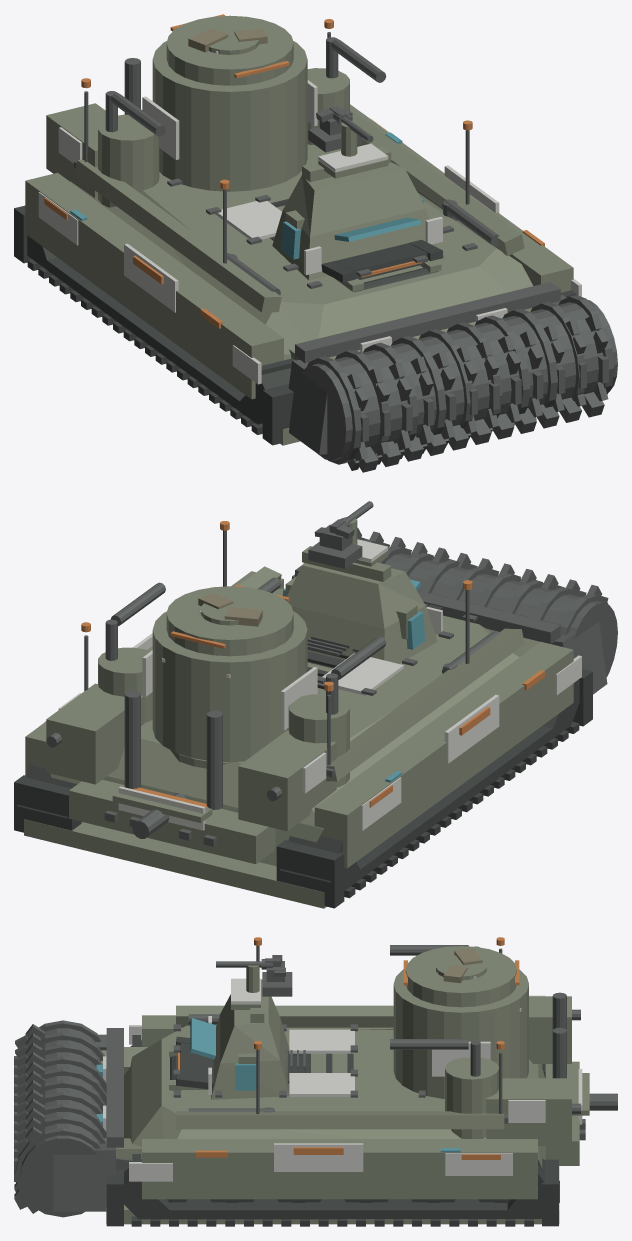
The model's file is harvester_articulated.glb.
3 renders of one model, top to bottom at view 1: azimuth 30°, elevation 25°; view 2: azimuth 150°, elevation 25°; view 3: azimuth 270°, elevation 25°, orthographic. The views are drawn at different scales.
Visible parts, largest first — view 1: harvester_hull, harvester_intake_cutter, harvester_ore_tank, harvester_cab, harvester_track_left, harvester_team_body, harvester_pipes, harvester_conveyor, harvester_team_tank, harvester_emissive, harvester_glass, harvester_machine_gun (+2 smaller); view 2: harvester_hull, harvester_ore_tank, harvester_intake_cutter, harvester_track_left, harvester_cab, harvester_pipes, harvester_team_body, harvester_track_right, harvester_team_tank, harvester_machine_gun, harvester_emissive, harvester_bolts (+3 smaller); view 3: harvester_hull, harvester_ore_tank, harvester_intake_cutter, harvester_track_right, harvester_team_body, harvester_cab, harvester_pipes, harvester_conveyor, harvester_team_tank, harvester_glass, harvester_emissive, harvester_machine_gun (+2 smaller).
Part boxes in pixels (box(x1,y1,x2,y2)): harvester_hull: box(25, 104, 573, 445); harvester_intake_cutter: box(288, 282, 617, 472); harvester_ore_tank: box(46, 15, 349, 207); harvester_cab: box(272, 120, 436, 280); harvester_track_left: box(14, 205, 294, 445); harvester_team_body: box(38, 113, 581, 384); harvester_pipes: box(74, 32, 499, 295); harvester_conveyor: box(269, 199, 443, 292); harvester_team_tank: box(58, 51, 317, 163); harvester_emissive: box(44, 14, 544, 328); harvester_glass: box(70, 132, 502, 318); harvester_machine_gun: box(308, 106, 373, 152); harvester_hull: box(24, 566, 573, 908); harvester_ore_tank: box(46, 586, 349, 831); harvester_intake_cutter: box(291, 527, 617, 694); harvester_track_left: box(276, 668, 592, 908); harvester_cab: box(285, 517, 437, 663); harvester_pipes: box(46, 530, 499, 838); harvester_team_body: box(39, 539, 581, 830); harvester_track_right: box(14, 764, 81, 832); harvester_team_tank: box(58, 611, 326, 793); harvester_machine_gun: box(308, 501, 373, 568); harvester_emissive: box(44, 521, 544, 807); harvester_bolts: box(104, 603, 477, 846); harvester_hull: box(101, 1005, 579, 1224); harvester_ore_tank: box(393, 946, 589, 1145); harvester_intake_cutter: box(14, 1020, 132, 1217); harvester_track_right: box(106, 1154, 559, 1226); harvester_team_body: box(103, 978, 582, 1181); harvester_cab: box(211, 965, 289, 1099); harvester_pipes: box(188, 945, 617, 1123); harvester_conveyor: box(170, 1036, 353, 1092); harvester_team_tank: box(432, 976, 545, 1122); harvester_glass: box(96, 1018, 460, 1152); harvester_emissive: box(178, 937, 567, 1159); harvester_machine_gun: box(216, 955, 292, 996).
Bounding box in the file's own units: 4.66 × 3.13 × 8.46.
